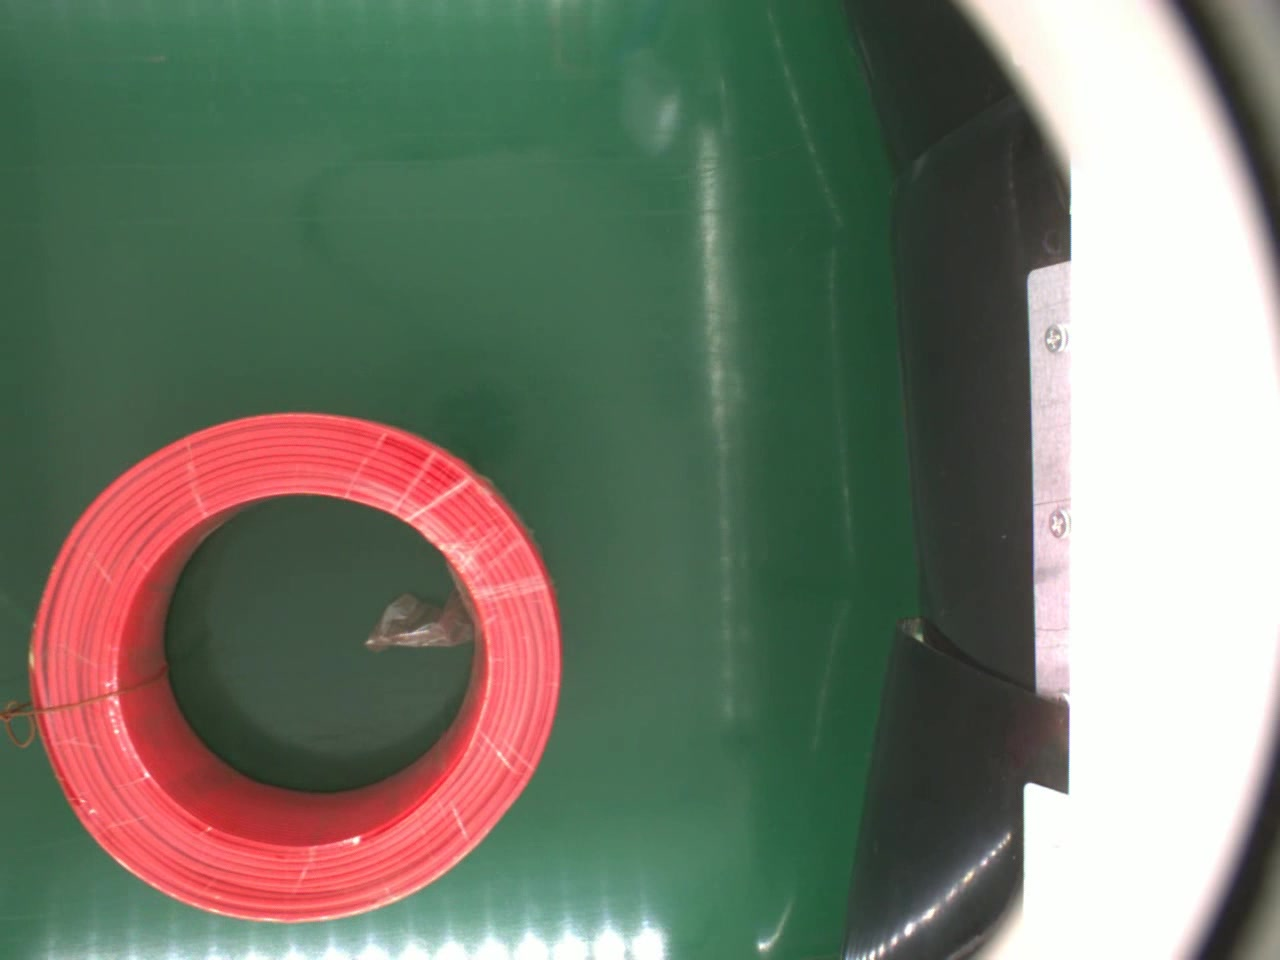red: (27, 408, 564, 923)
